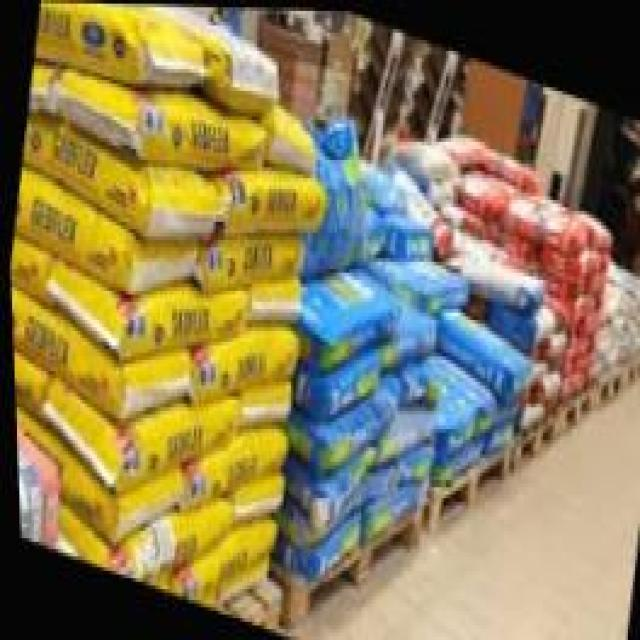gunny_bag: (22, 117, 226, 244), (9, 287, 190, 419), (35, 377, 234, 496), (13, 169, 197, 296), (18, 411, 181, 548), (43, 260, 245, 366), (59, 65, 265, 167), (34, 1, 201, 85), (142, 4, 277, 107), (295, 256, 400, 373), (110, 498, 233, 587), (284, 382, 394, 475), (164, 514, 274, 601), (433, 302, 529, 401), (176, 428, 283, 513), (189, 323, 297, 406), (286, 443, 369, 537), (216, 167, 324, 233), (288, 346, 377, 419), (197, 231, 301, 291), (277, 508, 357, 580), (419, 351, 495, 425), (13, 430, 59, 552), (500, 187, 584, 251), (374, 254, 466, 310), (463, 251, 542, 314), (365, 401, 435, 470), (263, 99, 317, 175), (380, 297, 433, 373), (359, 481, 414, 545), (488, 300, 557, 347), (458, 166, 517, 219), (429, 392, 473, 463), (247, 274, 302, 324), (537, 243, 605, 283), (380, 209, 432, 259), (483, 149, 542, 187), (430, 439, 477, 484), (396, 441, 433, 486), (544, 290, 594, 323), (441, 130, 485, 167), (478, 419, 510, 455), (517, 398, 540, 429)
